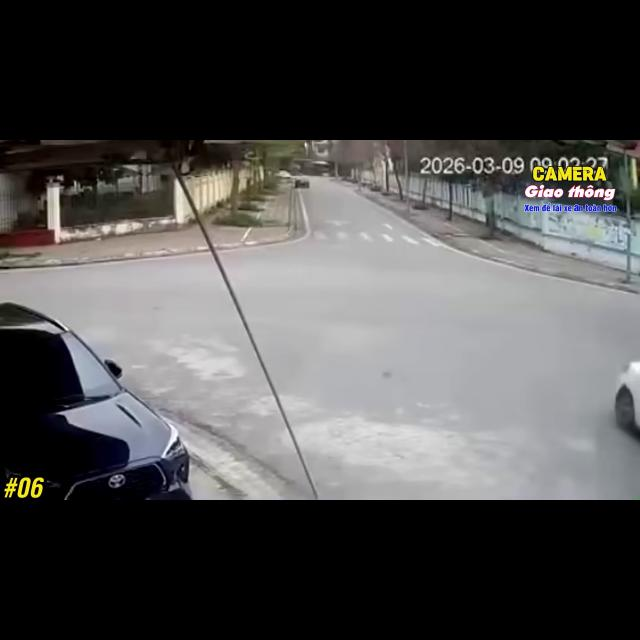car: (0, 303, 190, 499), (615, 362, 639, 430), (295, 177, 309, 188), (277, 170, 291, 179)
